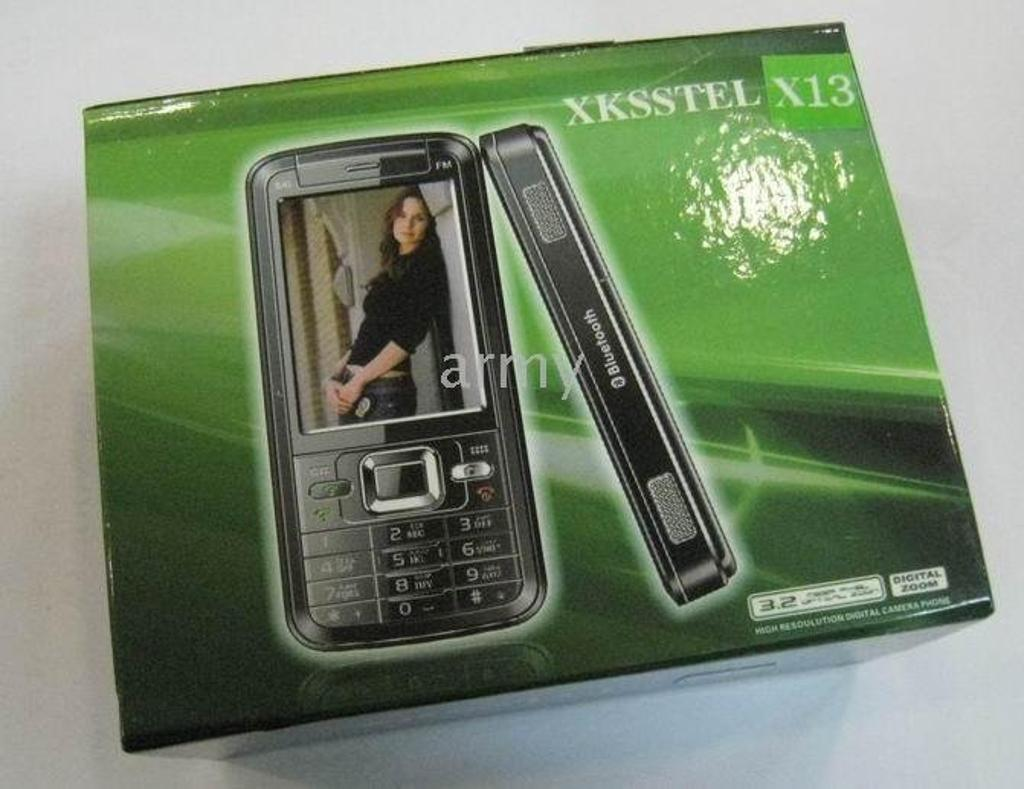face: (393, 198, 426, 245)
